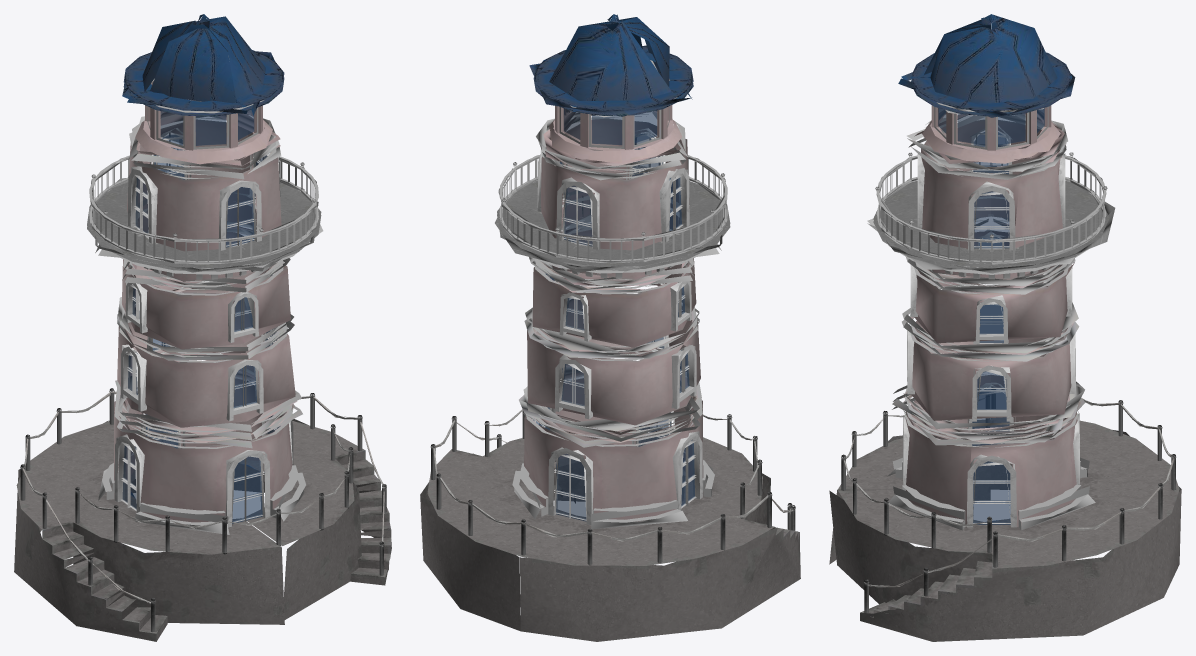
File: lighthouse_brick.glb
The picture shows the model from 3 angles, left to right: view 1: azimuth 30°, elevation 25°; view 2: azimuth 150°, elevation 25°; view 3: azimuth 270°, elevation 25°; orthographic projection.
Visible parts, largest first — view 1: house_LOW_aiWireframe2_0, stair_LOW_aiWireframe2_0, polySurface159_aiWireframe2_0, polySurface135_aiWireframe1_0, polySurface178_aiWireframe2_0, polySurface1_aiWireframe2_0; view 2: house_LOW_aiWireframe2_0, stair_LOW_aiWireframe2_0, polySurface159_aiWireframe2_0, polySurface135_aiWireframe1_0, polySurface1_aiWireframe2_0, polySurface178_aiWireframe2_0; view 3: house_LOW_aiWireframe2_0, stair_LOW_aiWireframe2_0, polySurface159_aiWireframe2_0, polySurface135_aiWireframe1_0, polySurface1_aiWireframe2_0, polySurface178_aiWireframe2_0.
Part boxes in pixels (x1,y1,x2,y2): house_LOW_aiWireframe2_0: (87, 14, 323, 534); stair_LOW_aiWireframe2_0: (14, 419, 391, 641); polySurface159_aiWireframe2_0: (114, 83, 293, 527); polySurface135_aiWireframe1_0: (122, 99, 280, 523); polySurface178_aiWireframe2_0: (20, 381, 386, 632); polySurface1_aiWireframe2_0: (89, 147, 318, 264); house_LOW_aiWireframe2_0: (495, 14, 730, 529); stair_LOW_aiWireframe2_0: (420, 427, 800, 641); polySurface159_aiWireframe2_0: (532, 80, 702, 524); polySurface135_aiWireframe1_0: (533, 108, 694, 521); polySurface1_aiWireframe2_0: (498, 147, 727, 263); polySurface178_aiWireframe2_0: (430, 409, 795, 565); house_LOW_aiWireframe2_0: (867, 14, 1115, 530); stair_LOW_aiWireframe2_0: (829, 417, 1181, 641); polySurface159_aiWireframe2_0: (903, 106, 1079, 527); polySurface135_aiWireframe1_0: (938, 108, 1044, 524); polySurface1_aiWireframe2_0: (875, 144, 1107, 264); polySurface178_aiWireframe2_0: (841, 386, 1176, 613).
Bounding box in the file's own units: 24.8 × 39.99 × 23.18.
Materials: 2 (2 with a texture image).
